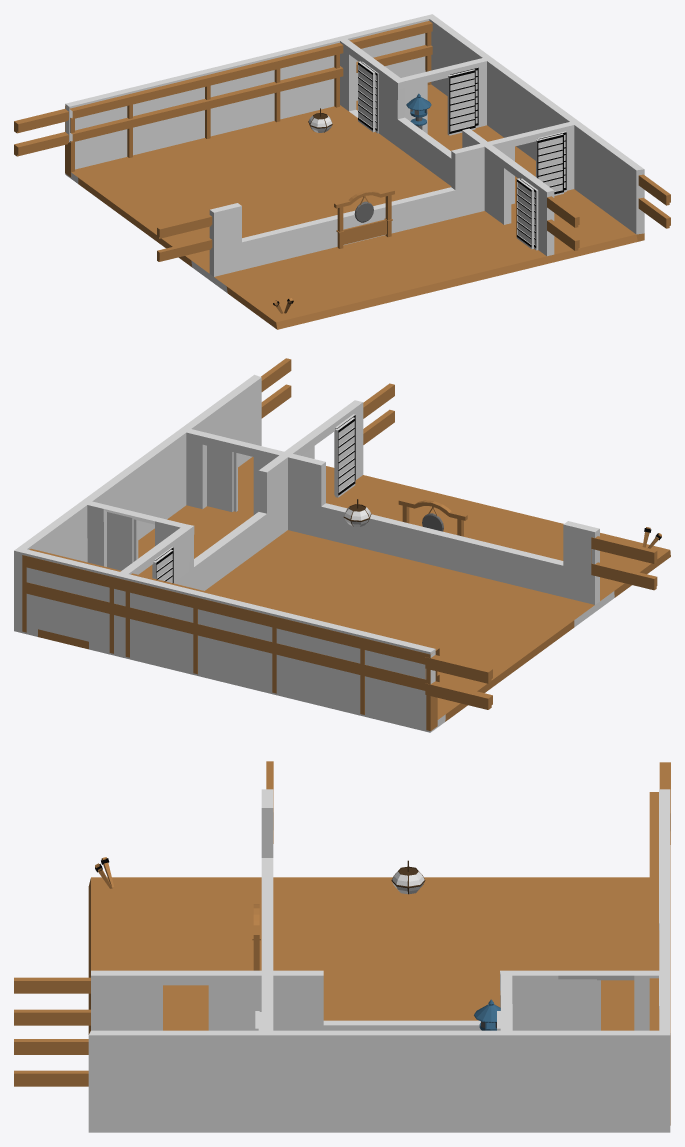
Rendered from isorolom.fbx.
3 renders of one model, top to bottom at view 1: azimuth 30°, elevation 25°; view 2: azimuth 150°, elevation 25°; view 3: azimuth 270°, elevation 25°, orthographic. The views are drawn at different scales.
Parts seen in each view (by area): view 1: Circle.001; view 2: Circle.001; view 3: Circle.001.
Boxes of the visible parts, <box> form: Circle.001: <box>14,14,670,329</box>; Circle.001: <box>14,358,670,732</box>; Circle.001: <box>14,761,670,1132</box>.
Size of the model in its own units: 1716 by 379 by 1694.
